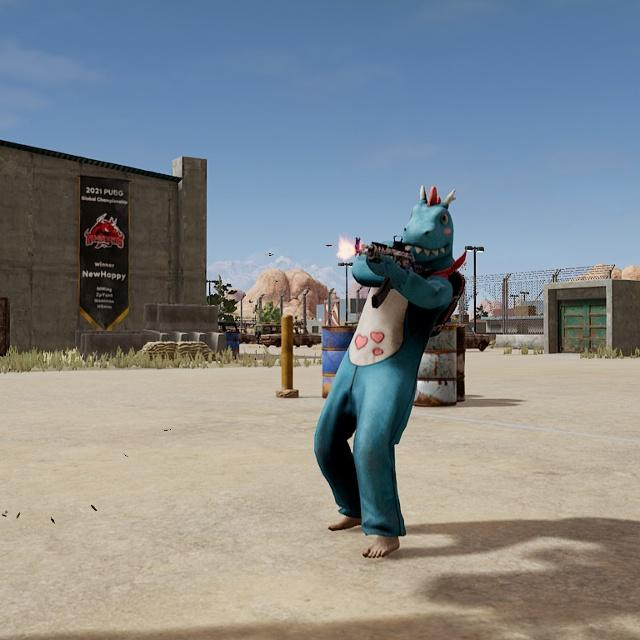head: (388, 188, 465, 279)
people: (297, 180, 475, 569)
